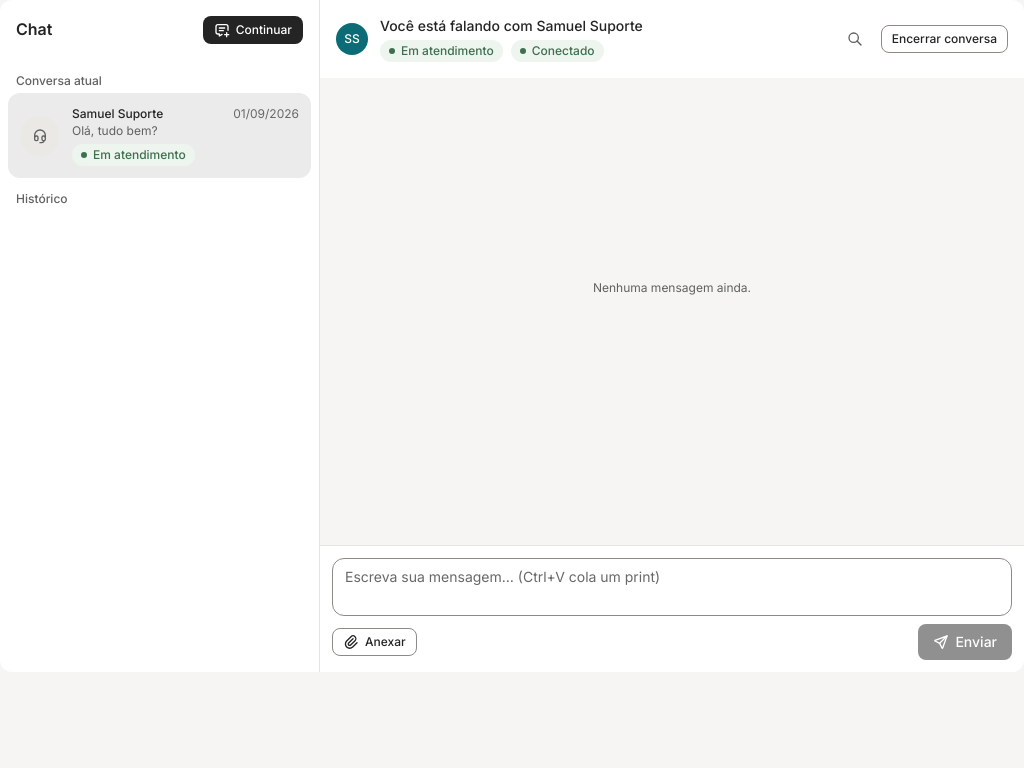
Scenario: PaginaChat (cliente) › a confirmação de encerramento sobrevive à conversa sumir da lista viva
Click the button "Encerrar conversa": click(944, 39) [881,25,1008,53]
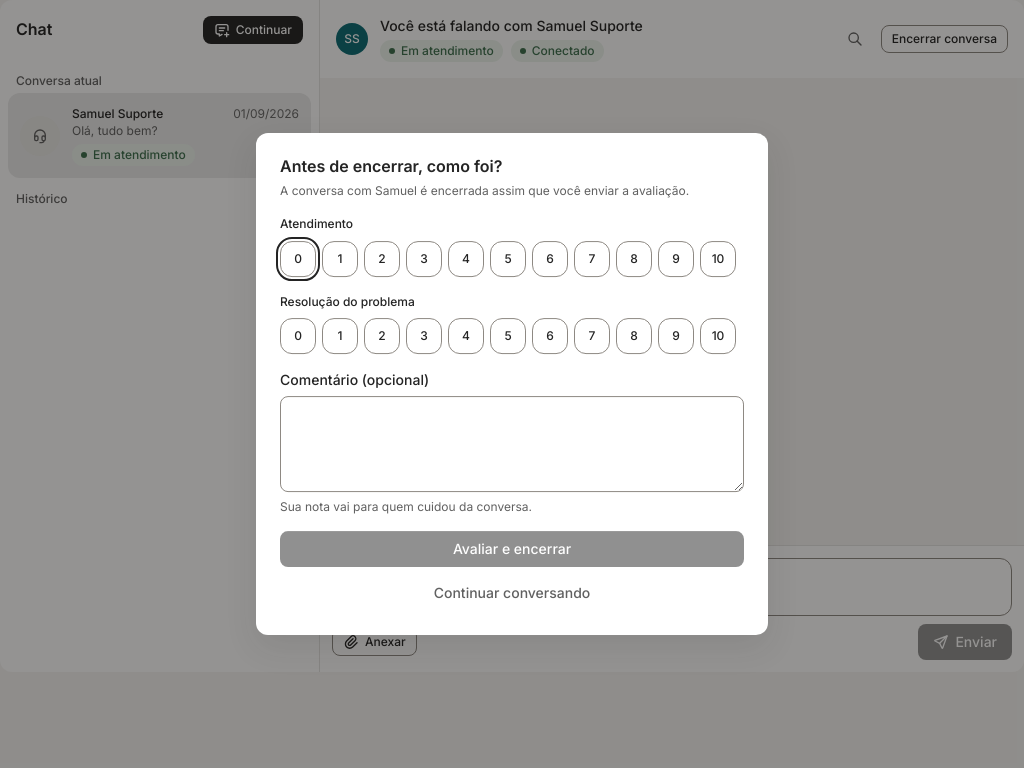
Now the heading "Antes de encerrar, como foi?" is shown, box [280,156,502,176]
Click the 1st radio button labelled "9": click(676, 259) [658,241,694,277]
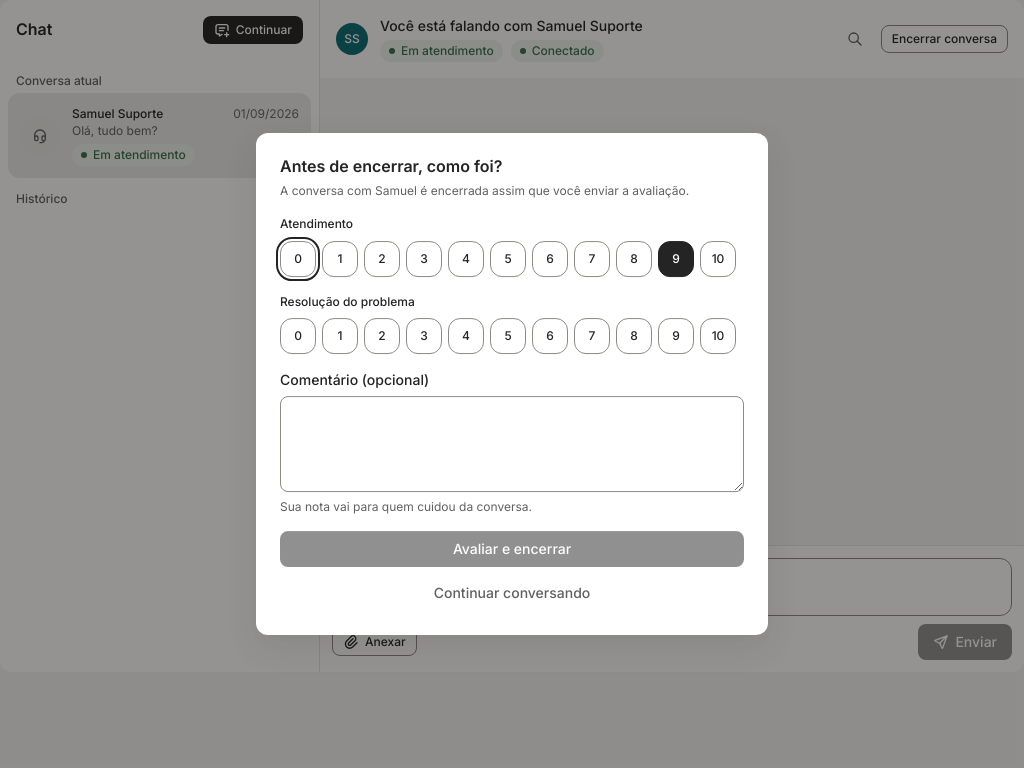
Click the radio button labelled "9" below "Resolução do problema": click(676, 336) [658,318,694,354]
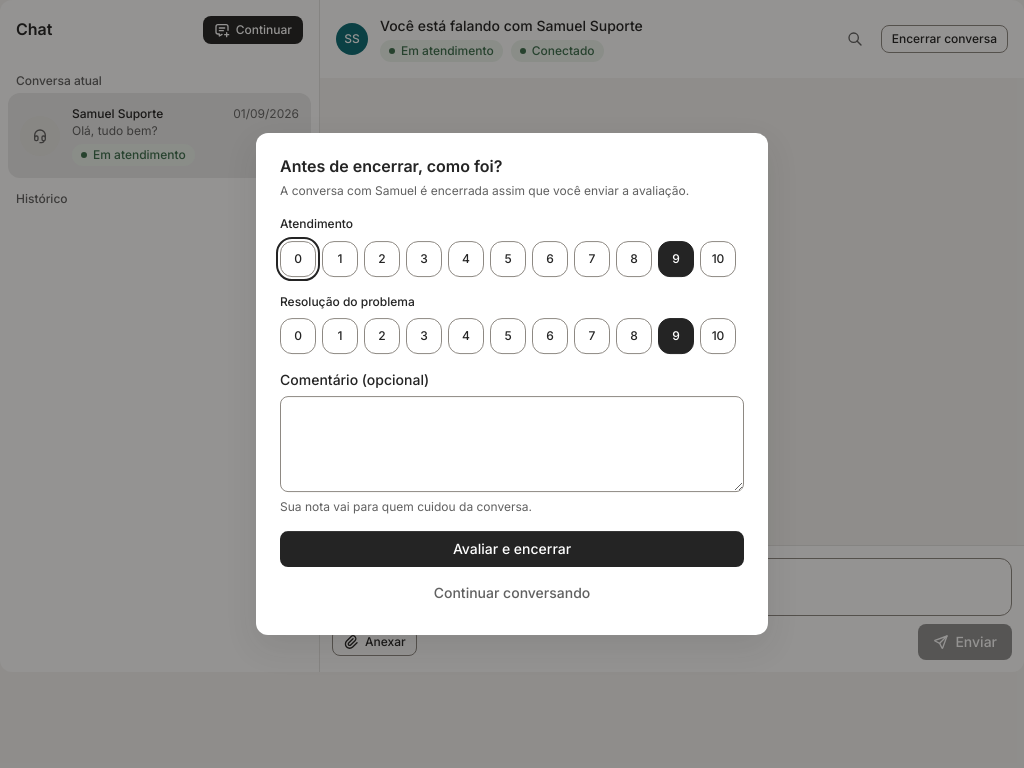
Click the button "Avaliar e encerrar": click(512, 549) [280,531,744,567]
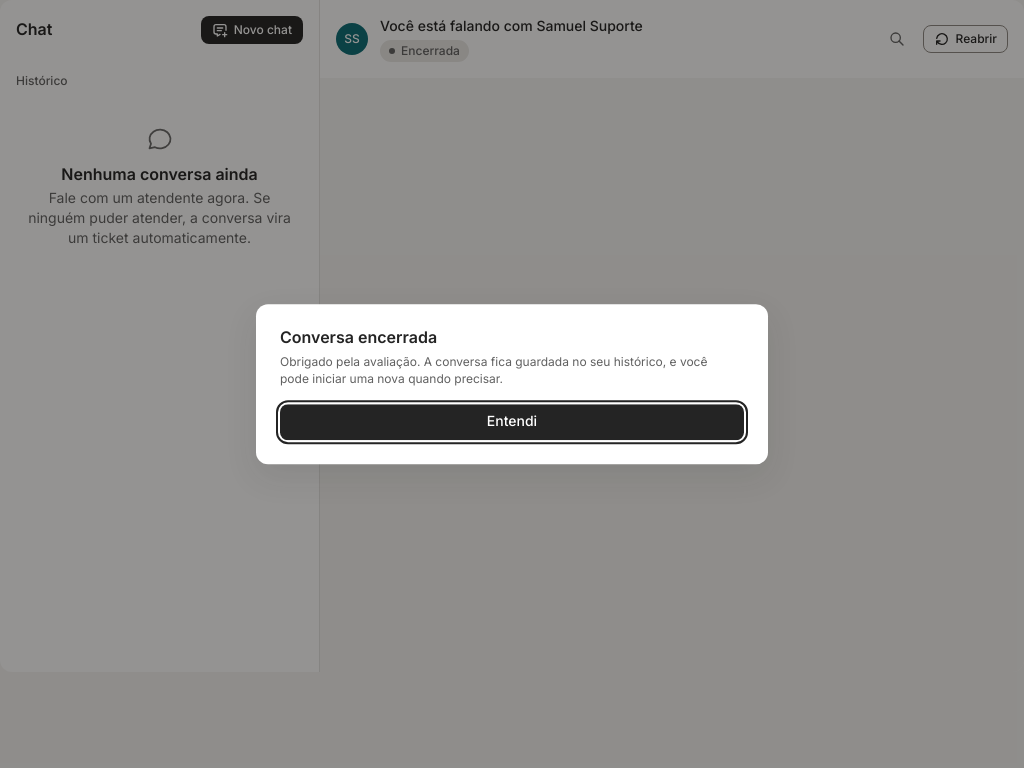
Now the button "Encerrar conversa" is gone
Now the heading "Conversa encerrada" is shown, box [280,327,437,347]
